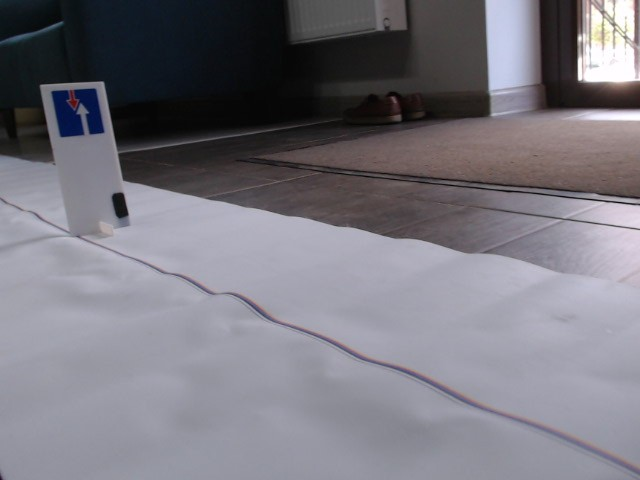priority_movement: (49, 87, 107, 137)
